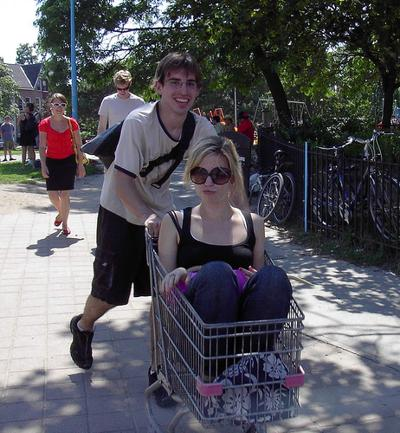person: (68, 47, 223, 408)
